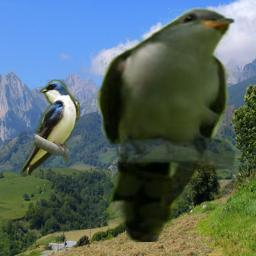Cuckoo: (96, 7, 235, 242)
Swallow: (20, 79, 80, 175)
